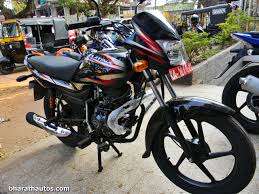bike: (21, 20, 259, 187)
